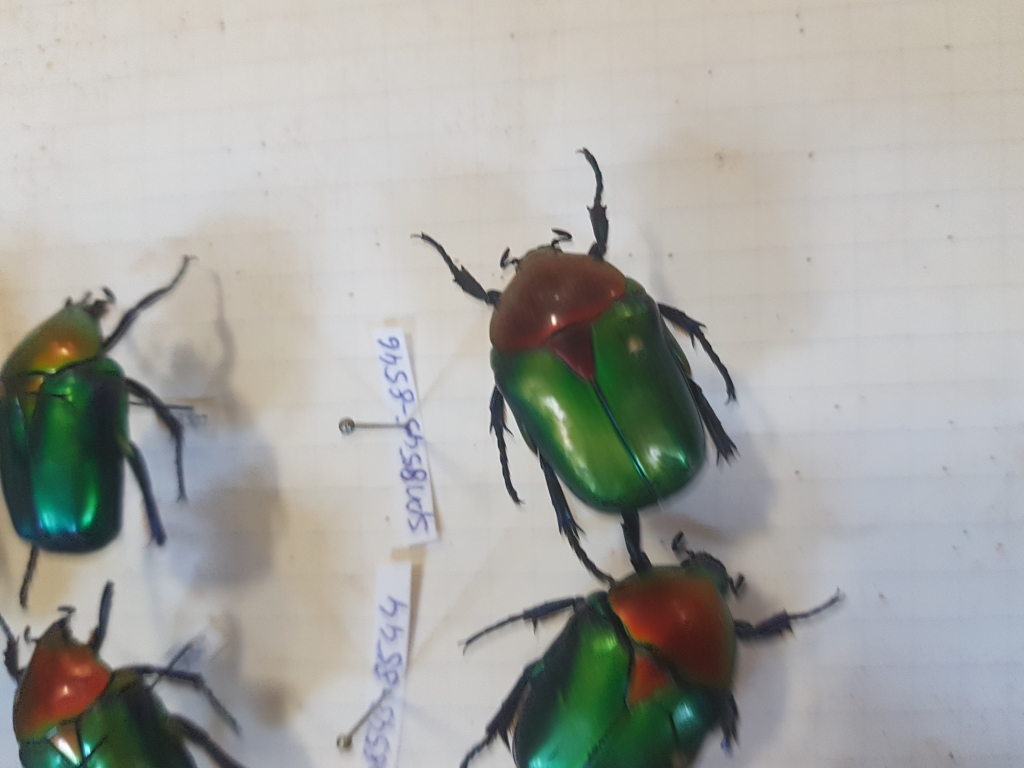Protaetia_speciosa_jousselini: (412, 129, 766, 558), (446, 526, 866, 768), (1, 232, 232, 603)
